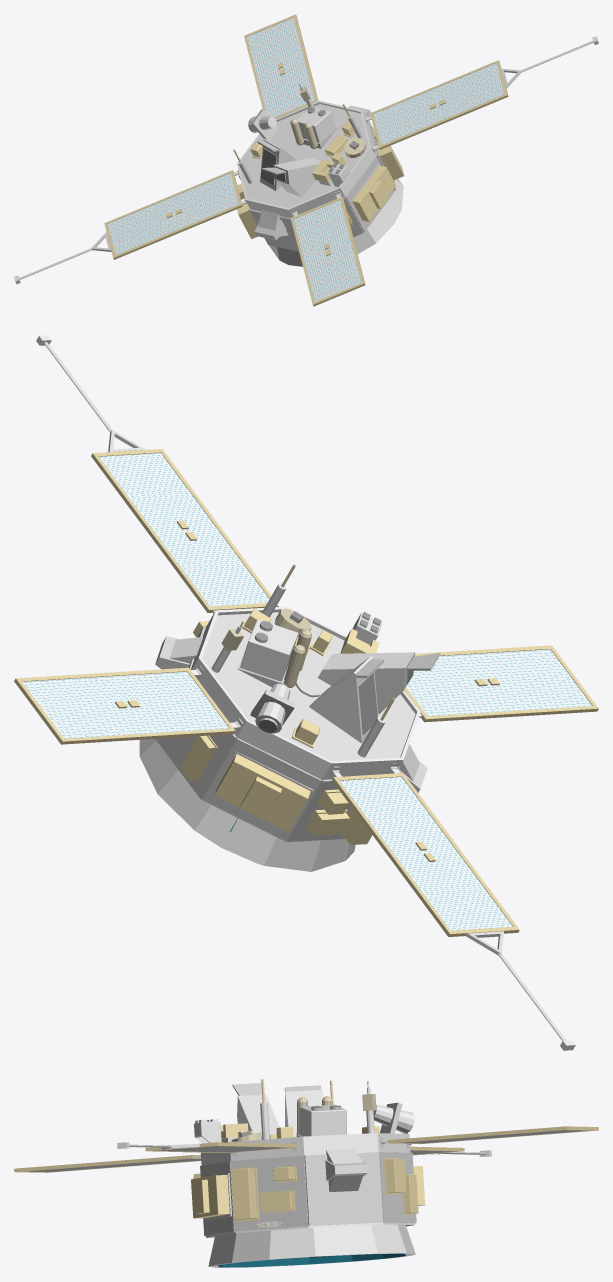
File: Advanced Composition Explorer.fbx
3 views of the same model, one above another, from view 1: azimuth 30°, elevation 25°; view 2: azimuth 150°, elevation 25°; view 3: azimuth 270°, elevation 25° (orthographic). The views are drawn at different scales.
Visible parts, largest first — view 1: Layer_0; view 2: Layer_0; view 3: Layer_0.
Part boxes in pixels (x1,y1,x2,y2): Layer_0: (14,14,598,306); Layer_0: (14,335,598,1050); Layer_0: (14,1079,598,1267).
Size of the model in its own units: 111550 by 54119 by 88773.
